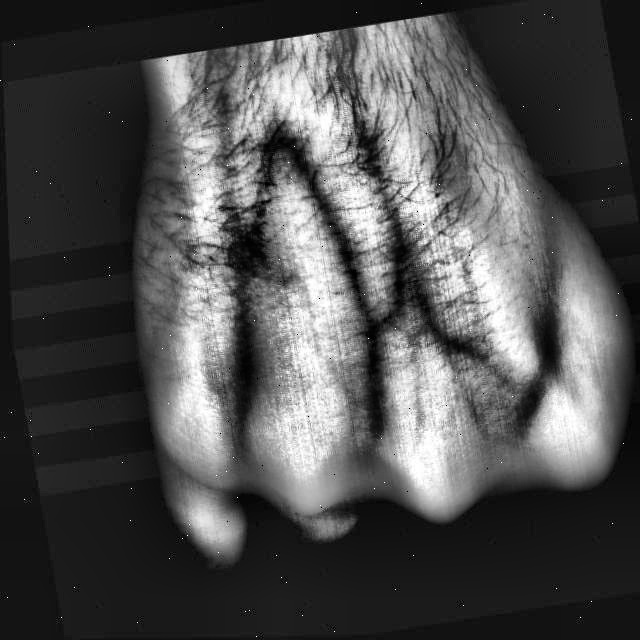Vein: (281, 128, 383, 323)
